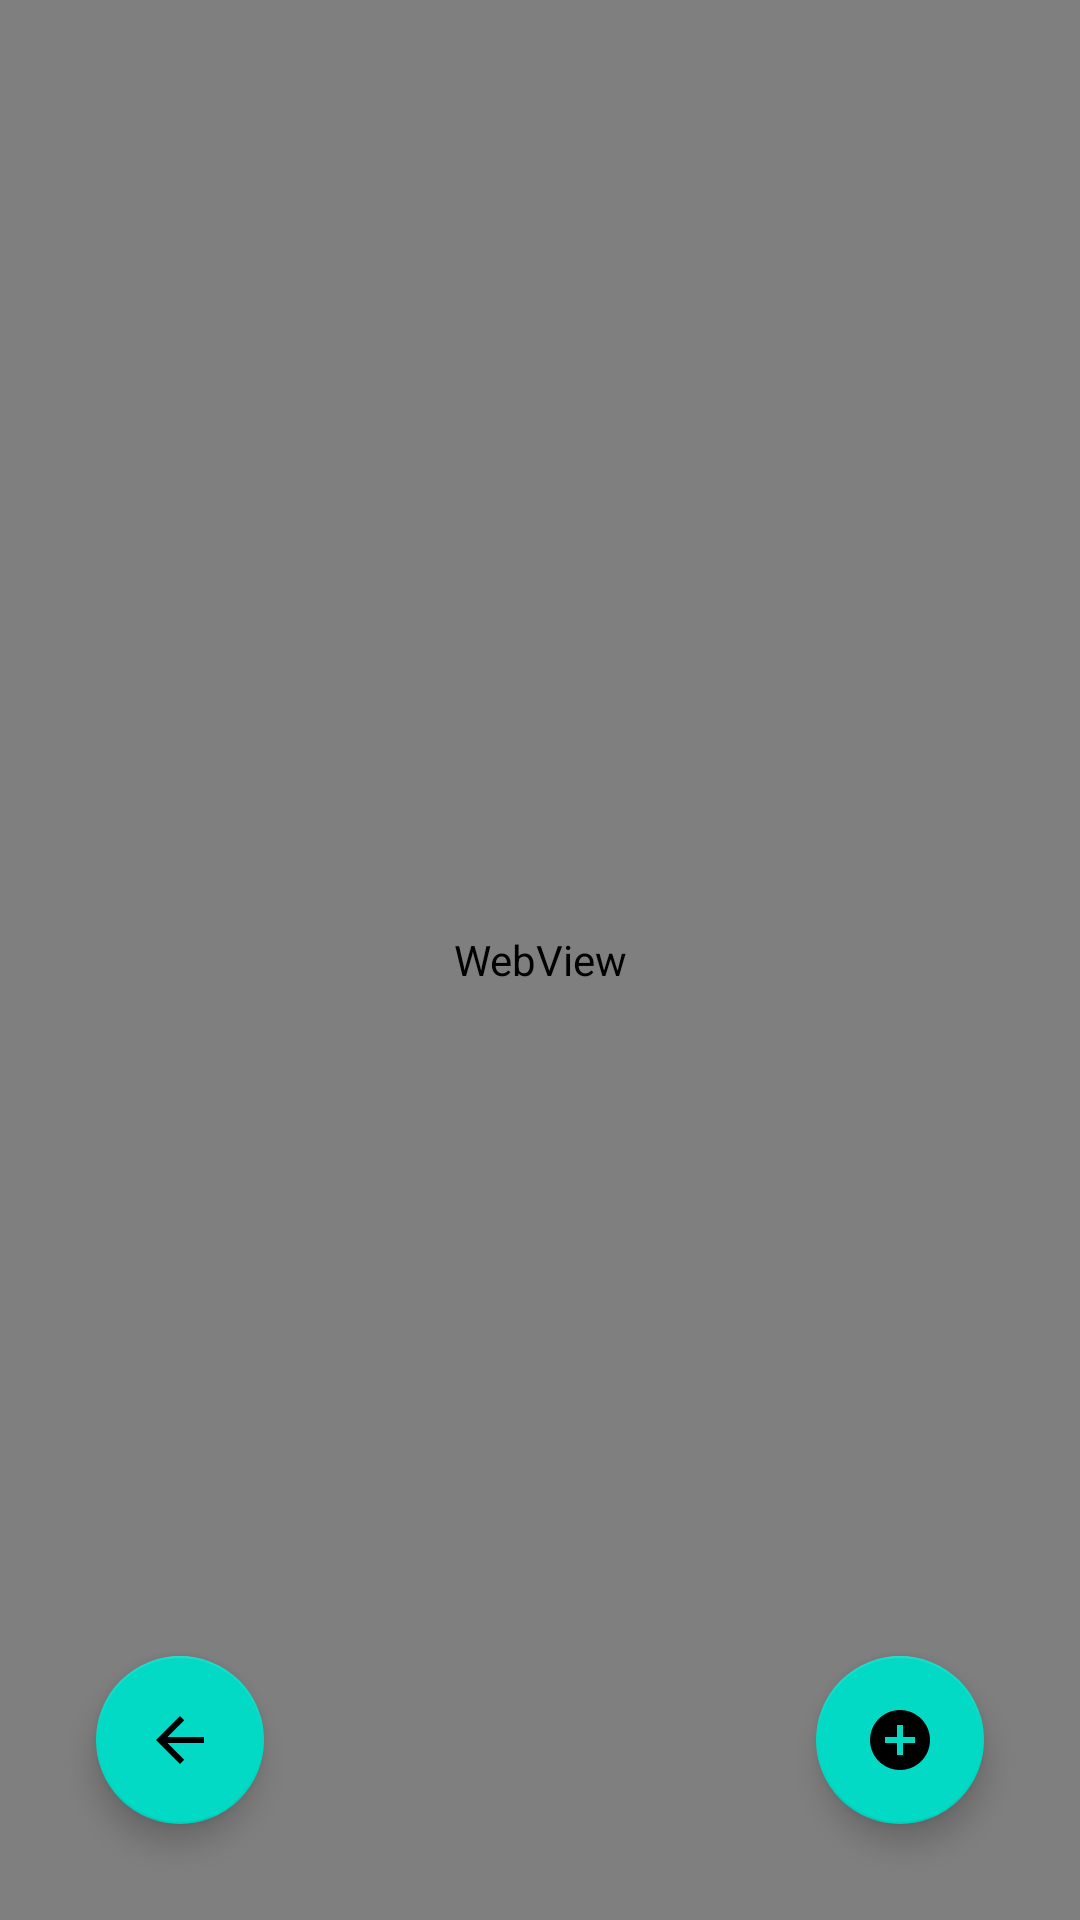

Where icons sit on this 1080x1920 app screen, as (x1, y1, x2, y2):
add: (816, 1656, 984, 1824)
back: (96, 1656, 264, 1824)
